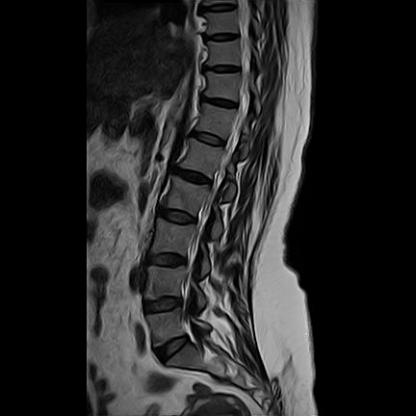Degenerative Disc Diseaserotation: (164, 166, 220, 188)
Disc Bulgerotation: (139, 293, 189, 322)
